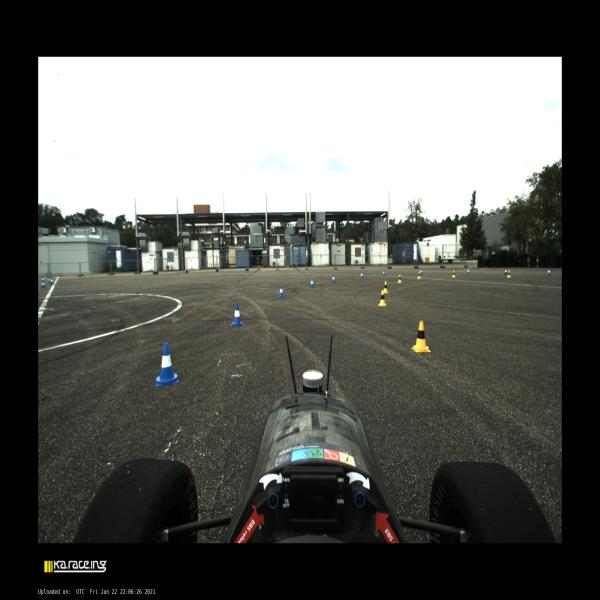blue_cone: (156, 342, 178, 387), (230, 304, 244, 326), (278, 286, 285, 298), (546, 268, 552, 276), (331, 274, 336, 283), (310, 278, 314, 288), (41, 280, 46, 288), (382, 269, 386, 277), (360, 271, 364, 279), (41, 276, 45, 283), (504, 268, 508, 274), (420, 268, 423, 275), (467, 268, 470, 274), (51, 278, 54, 284), (49, 277, 51, 283)
yellow_cone: (411, 320, 431, 352), (378, 290, 386, 306), (383, 281, 389, 293), (398, 274, 402, 283), (417, 272, 421, 279), (507, 271, 511, 278), (452, 270, 455, 278)
